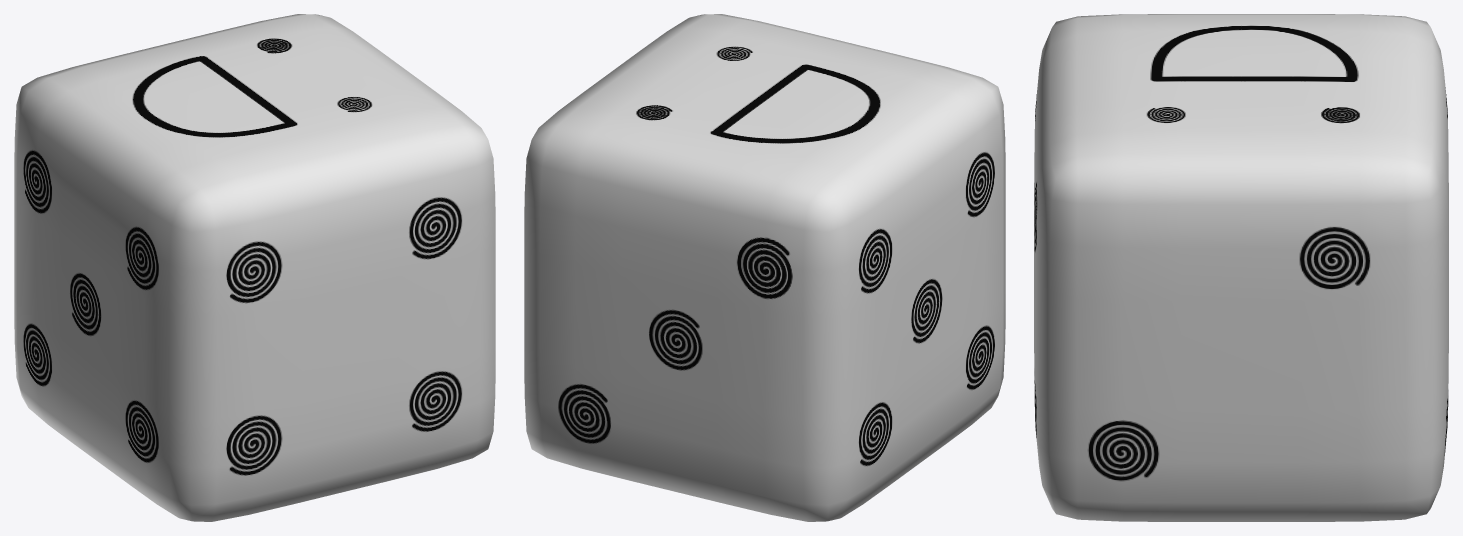
File: Dice.fbx
3 renders of one model, left to right at view 1: azimuth 30°, elevation 25°; view 2: azimuth 150°, elevation 25°; view 3: azimuth 270°, elevation 25°, orthographic. The views are drawn at different scales.
Visible parts, largest first — view 1: Dice; view 2: Dice; view 3: Dice.
Part boxes in pixels (x1=…): Dice: x1=14, y1=14, x2=495, y2=521; Dice: x1=524, y1=14, x2=1005, y2=521; Dice: x1=1034, y1=14, x2=1448, y2=521.
Bounding box in the file's own units: 200 × 200 × 200.
1 material, 1 textured.
